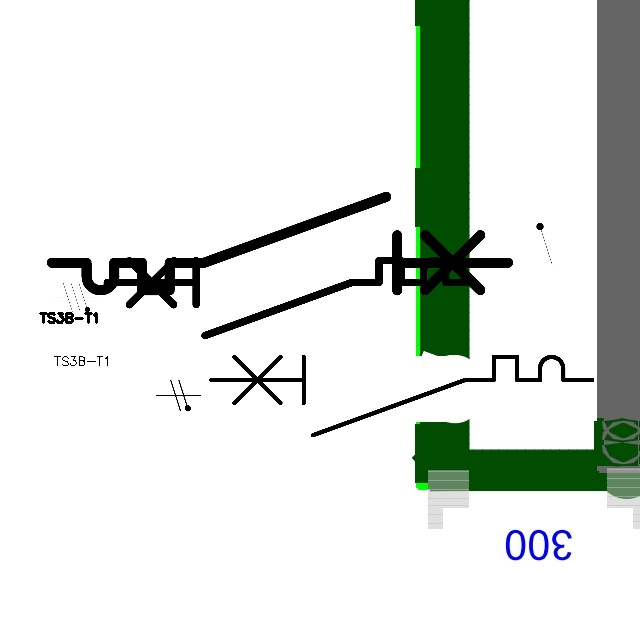interruptor_termomagnetico: (40, 185, 520, 302), (201, 347, 602, 445), (97, 251, 482, 345)
